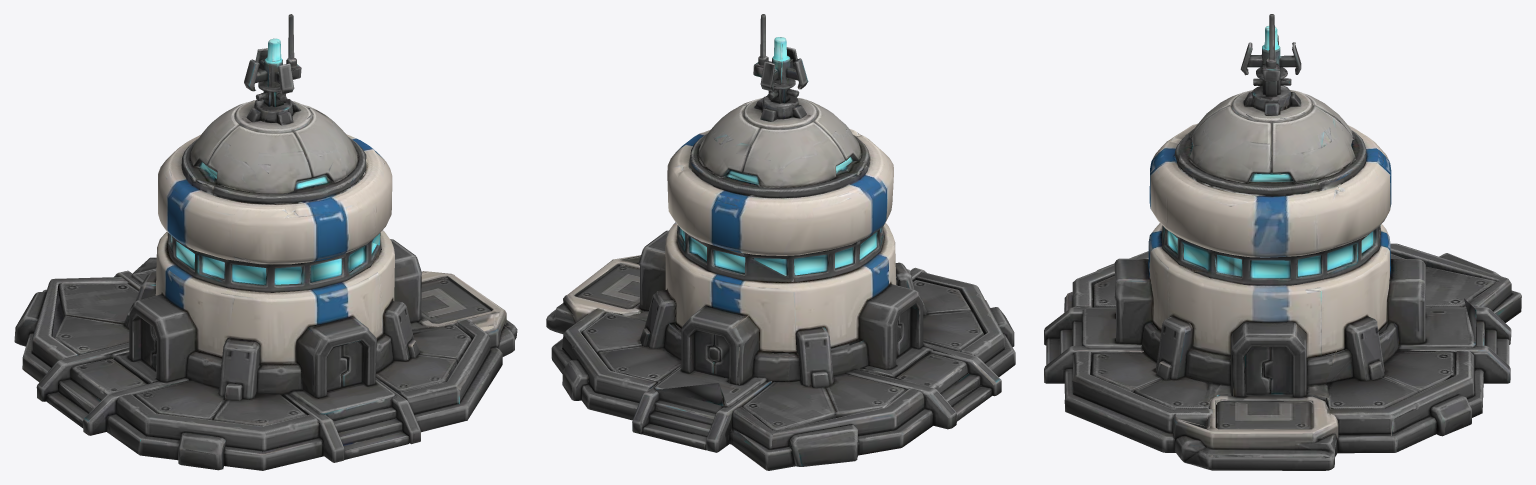
3 views of the same model, side by side, from view 1: azimuth 30°, elevation 25°; view 2: azimuth 150°, elevation 25°; view 3: azimuth 270°, elevation 25° (orthographic). The views are drawn at different scales.
Bounding box in the file's own units: 0.9531 × 0.7637 × 0.9155.
1 material, 1 textured.
